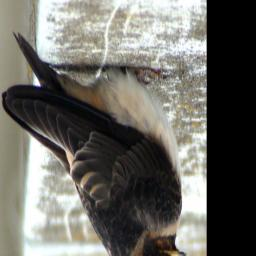Swallow: (1, 28, 188, 256)
